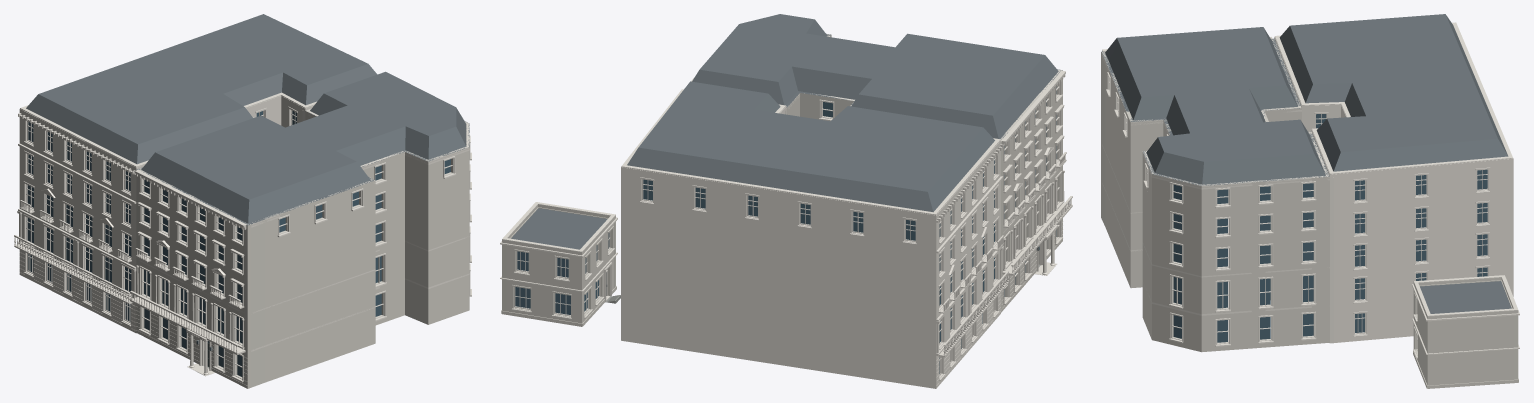
Rendered from replacement.glb.
3 renders of one model, left to right at view 1: azimuth 30°, elevation 25°; view 2: azimuth 150°, elevation 25°; view 3: azimuth 270°, elevation 25°, orthographic. The views are drawn at different scales.
Visible parts, largest first — view 1: 71-72 Princes Gate | pierced wall piers, 69–70 Princes Gate | mansard top deck, 71-72 Princes Gate | estimated concave mansard upper deck, 69–70 Princes Gate | pierced masonry, 71-72 Princes Gate | estimated concave mansard slopes, 69–70 Princes Gate | mansard slopes, 71-72 Princes Gate | recessed sash glazing, 69–70 Princes Gate | recessed glazing, 71-72 Princes Gate | architrave upright, 71-72 Princes Gate | continuous mitred contained stringcours, 71-72 Princes Gate | pierced wall sill infill, 71-72 Princes Gate | timber sash side frames (+22 smaller); view 2: 69–70 Princes Gate | pierced masonry, 69–70 Princes Gate | mansard top deck, 71-72 Princes Gate | estimated concave mansard upper deck, 69–70 Princes Gate | mansard slopes, 71-72 Princes Gate | estimated concave mansard slopes, 1 Princes Gate Mews | pierced muted masonry facades, 71-72 Princes Gate | pierced wall piers, 1 Princes Gate Mews | complete concave roof deck, 71-72 Princes Gate | architrave upright, 69–70 Princes Gate | recessed glazing, 69–70 Princes Gate | mitred coping, 69–70 Princes Gate | painted joinery (+20 smaller); view 3: 71-72 Princes Gate | pierced wall piers, 69–70 Princes Gate | pierced masonry, 69–70 Princes Gate | mansard top deck, 71-72 Princes Gate | estimated concave mansard upper deck, 71-72 Princes Gate | estimated concave mansard slopes, 1 Princes Gate Mews | pierced muted masonry facades, 69–70 Princes Gate | mansard slopes, 71-72 Princes Gate | recessed sash glazing, 69–70 Princes Gate | recessed glazing, 71-72 Princes Gate | continuous mitred contained stringcours, 1 Princes Gate Mews | complete concave roof deck, 69–70 Princes Gate | mitred coping (+16 smaller).
Boxes of the visible parts, x1,y1,x2,y2 form: 71-72 Princes Gate | pierced wall piers: (136,109,469,388); 69–70 Princes Gate | mansard top deck: (38,14,367,144); 71-72 Princes Gate | estimated concave mansard upper deck: (155,71,456,199); 69–70 Princes Gate | pierced masonry: (19,98,305,333); 71-72 Princes Gate | estimated concave mansard slopes: (141,93,466,223); 69–70 Princes Gate | mansard slopes: (26,64,377,164); 71-72 Princes Gate | recessed sash glazing: (144,159,450,376); 69–70 Princes Gate | recessed glazing: (27,110,296,321); 71-72 Princes Gate | architrave upright: (139,143,470,380); 71-72 Princes Gate | continuous mitred contained stringcours: (138,108,469,351); 71-72 Princes Gate | pierced wall sill infill: (141,172,453,386); 71-72 Princes Gate | timber sash side frames: (141,158,453,375); 69–70 Princes Gate | pierced masonry: (621,109,1000,388); 69–70 Princes Gate | mansard top deck: (638,81,982,191); 71-72 Princes Gate | estimated concave mansard upper deck: (700,14,1044,115); 69–70 Princes Gate | mansard slopes: (627,94,994,212); 71-72 Princes Gate | estimated concave mansard slopes: (692,20,1058,138); 1 Princes Gate Mews | pierced muted masonry facades: (502,207,615,323); 71-72 Princes Gate | pierced wall piers: (692,34,1062,312); 1 Princes Gate Mews | complete concave roof deck: (511,208,607,249); 71-72 Princes Gate | architrave upright: (819,80,1061,303); 69–70 Princes Gate | recessed glazing: (643,158,994,373); 69–70 Princes Gate | mitred coping: (621,89,1000,215); 69–70 Princes Gate | painted joinery: (642,156,996,375); 71-72 Princes Gate | pierced wall piers: (1101,39,1329,352); 69–70 Princes Gate | pierced masonry: (1302,107,1513,343); 69–70 Princes Gate | mansard top deck: (1290,14,1497,152); 71-72 Princes Gate | estimated concave mansard upper deck: (1117,27,1313,161); 71-72 Princes Gate | estimated concave mansard slopes: (1105,28,1325,184); 1 Princes Gate Mews | pierced muted masonry facades: (1413,280,1518,385); 69–70 Princes Gate | mansard slopes: (1279,15,1508,171); 71-72 Princes Gate | recessed sash glazing: (1173,183,1313,342); 69–70 Princes Gate | recessed glazing: (1316,114,1487,332); 71-72 Princes Gate | continuous mitred contained stringcours: (1102,39,1329,315); 1 Princes Gate Mews | complete concave roof deck: (1420,281,1511,313); 69–70 Princes Gate | mitred coping: (1275,22,1513,174).
Size of the model in its own units: 42.38 by 18.25 by 37.27.
